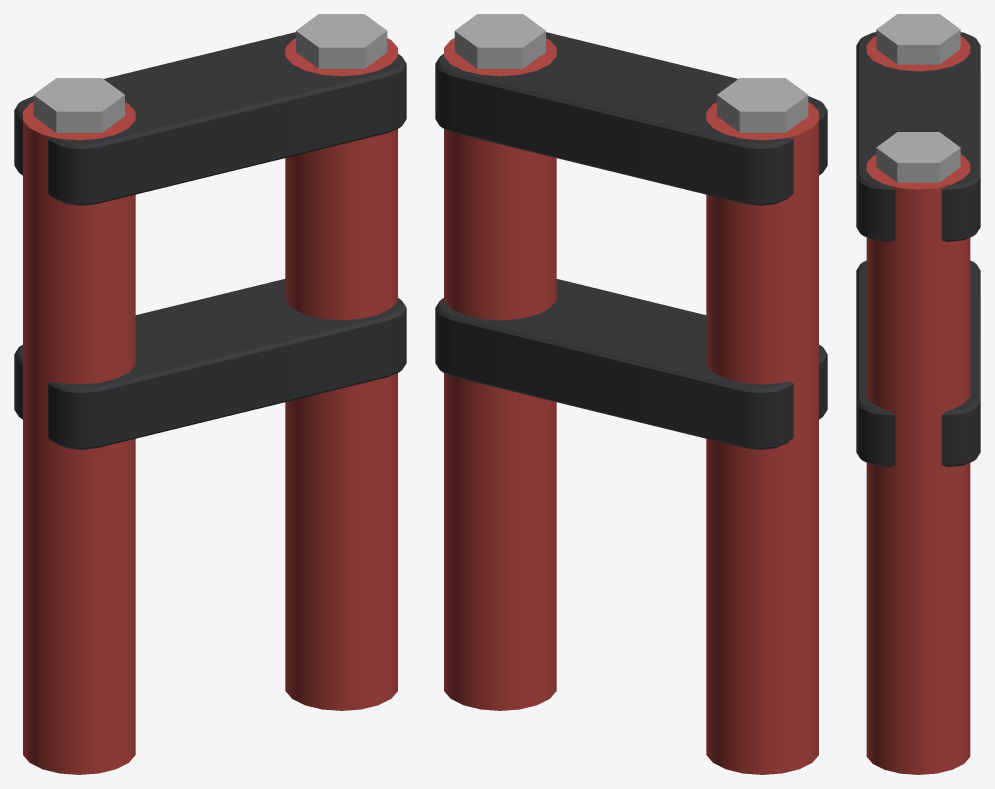
The model's file is race_works_usd_upper.glb.
The picture shows the model from 3 angles, left to right: view 1: azimuth 30°, elevation 25°; view 2: azimuth 150°, elevation 25°; view 3: azimuth 270°, elevation 25°; orthographic projection. The views are drawn at different scales.
Parts seen in each view (by area): view 1: lod0; view 2: lod0; view 3: lod0.
Boxes of the visible parts, left/top/right/bottom form: lod0: left=14, top=14, right=406, bottom=774; lod0: left=435, top=14, right=827, bottom=774; lod0: left=856, top=14, right=980, bottom=774.
Size of what is drawn, in the model's own units: 0.248 by 0.43 by 0.08.
